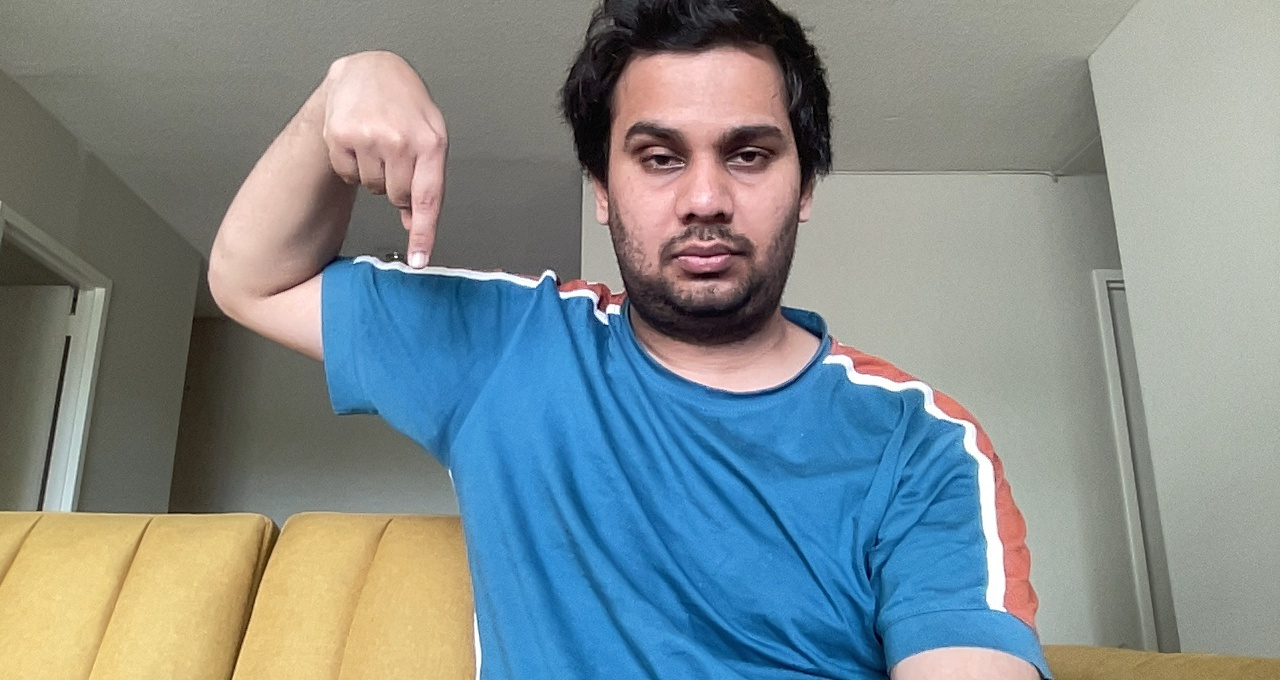fingerdown: (319, 42, 453, 279)
